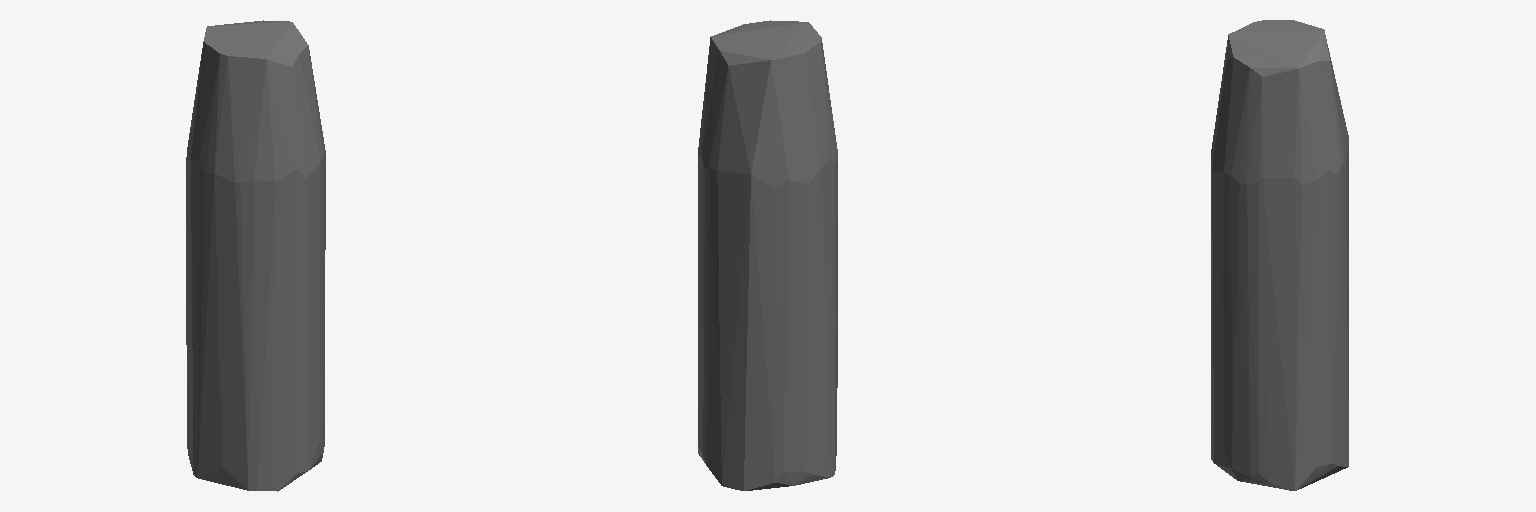
The robot description file, URDF, robot "spray_can_005":
<?xml version="1.0" ?>
<robot name="spray_can_005">
  <material name="color">
    <color rgba=".5 .5 .5 1"/>
  </material>

  <link name="base_link">
    <contact>
      <lateral_friction value="1.0"/>
      <rolling_friction value="0.001"/>
      <spinning_friction value="0.001"/>
      <inertia_scaling value="1.0"/>
    </contact>
    <inertial>
      <origin rpy="0 0 0" xyz="-6.75825e-06 3.71462e-06 -0.0051608"/>
       <mass value="0.1"/>
       <inertia ixx="1" ixy="0" ixz="0" iyy="1" iyz="0" izz="1"/>
    </inertial>

    <visual>
      <origin rpy="0 0 0" xyz="0 0 0"/>
      <geometry>
        <mesh filename="spray_can_005_vhacd_0_of_1.obj" scale="1 1 1"/>
      </geometry>
      <material name="color"/>
    </visual>

    <collision>
      <origin rpy="0 0 0" xyz="0 0 0"/>
      <geometry>
        <mesh filename="spray_can_005_vhacd_0_of_1.obj" scale="1 1 1"/>
      </geometry>
    </collision>

  </link>
</robot>

--- Render facts (derived) ---
Views: 3 orthographic renders of the robot side by side, from view 1: azimuth 30°, elevation 25°; view 2: azimuth 150°, elevation 25°; view 3: azimuth 270°, elevation 25°.
Model spray_can_005 with 1 links and 0 joints (none), rooted at base_link, posed every joint at zero.
Links seen in each view (by area): view 1: base_link; view 2: base_link; view 3: base_link.
Boxes of the visible links, box(x1,y1,x2,y2) form: base_link: box(186, 20, 325, 491); base_link: box(698, 20, 837, 490); base_link: box(1211, 20, 1348, 490).
Bounding box of the posed robot: 0.0551 × 0.0538 × 0.1815 m (x, y, z).
1 mesh visuals loaded from 1 distinct referenced files (1 OBJ).